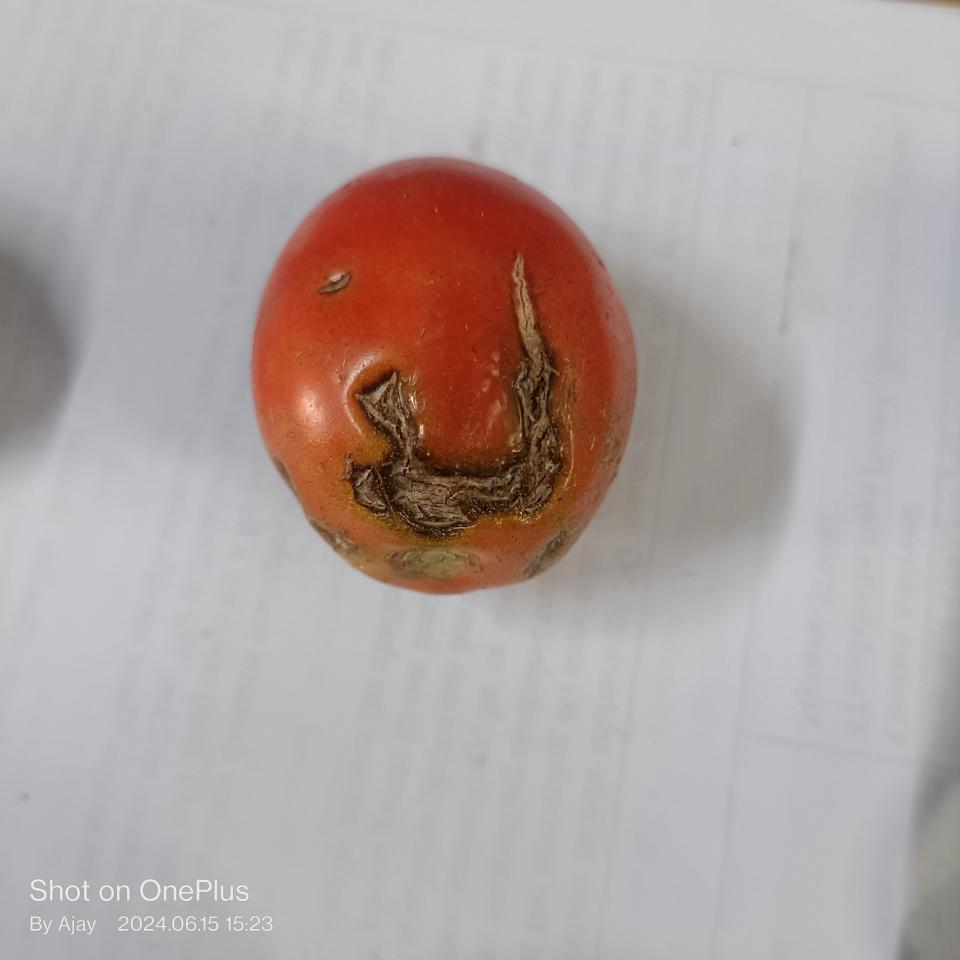Cracking: (334, 242, 579, 527)
